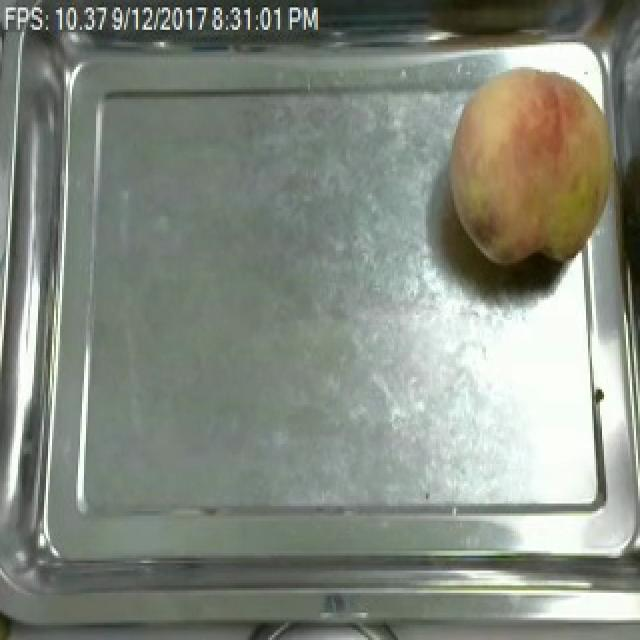Fruit: (440, 57, 632, 273)
